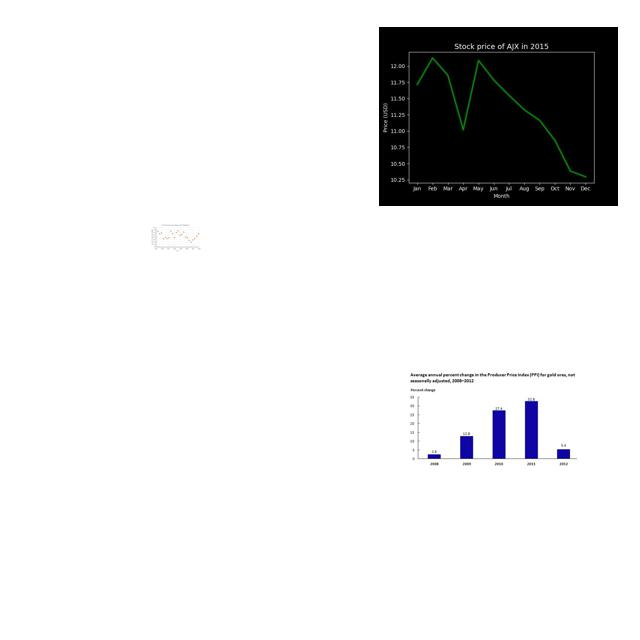Graph: (379, 27, 618, 206), (409, 370, 577, 467), (151, 224, 201, 252)
